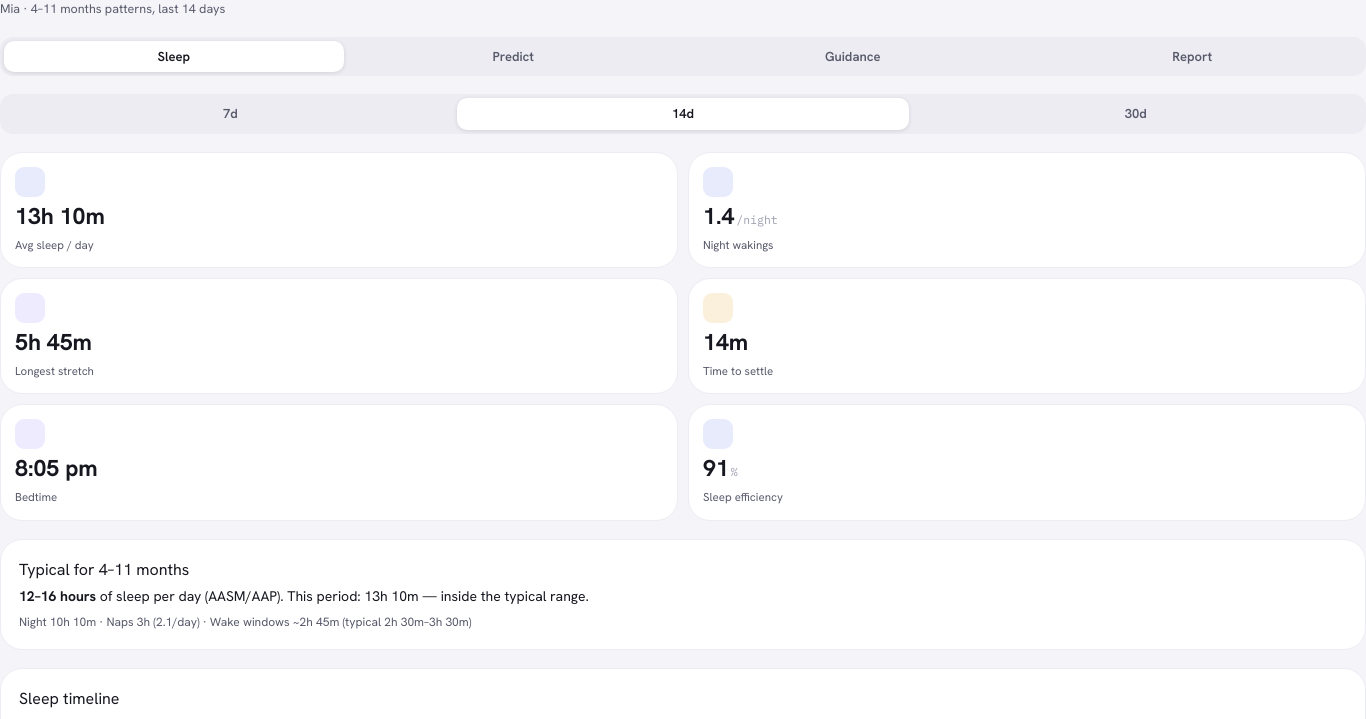
Scenario: InsightsScreen › Guidance view renders the feed cards with evidence lines
The image size is (1366, 719).
Expected: the text "13h 10m" is shown, [15, 201, 105, 231]
Click the button "Guidance".
click(853, 57)  # box [683, 41, 1022, 72]
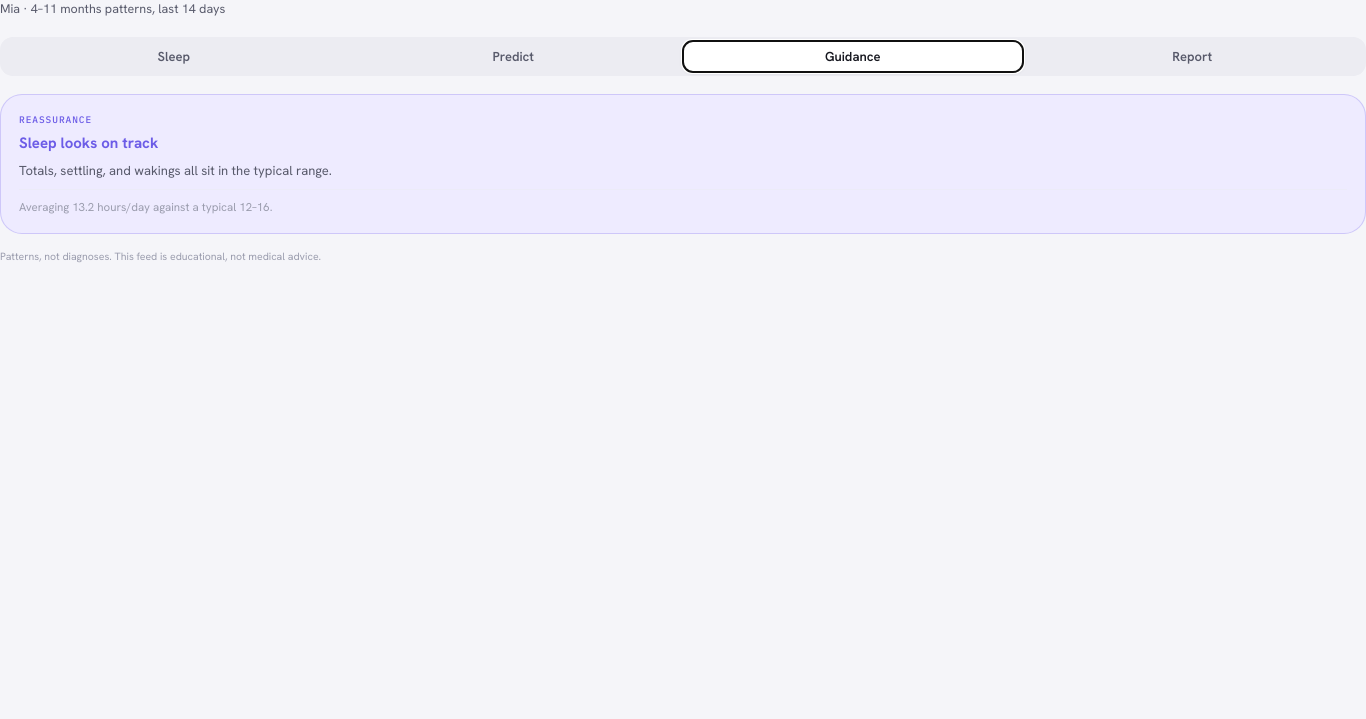
Now the heading "Sleep looks on track" is shown, box [19, 132, 158, 152]
Now the text "Averaging 13.2 hours/day against a typical 12–16." is shown, box [19, 189, 1347, 215]
Now the text "not medical advice" is shown, box [112, 249, 321, 263]
